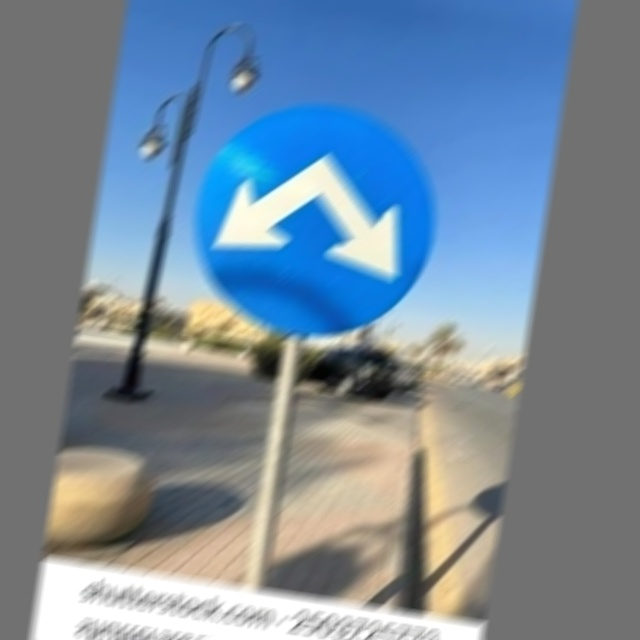Pass_Either_Side: (173, 84, 458, 351)
